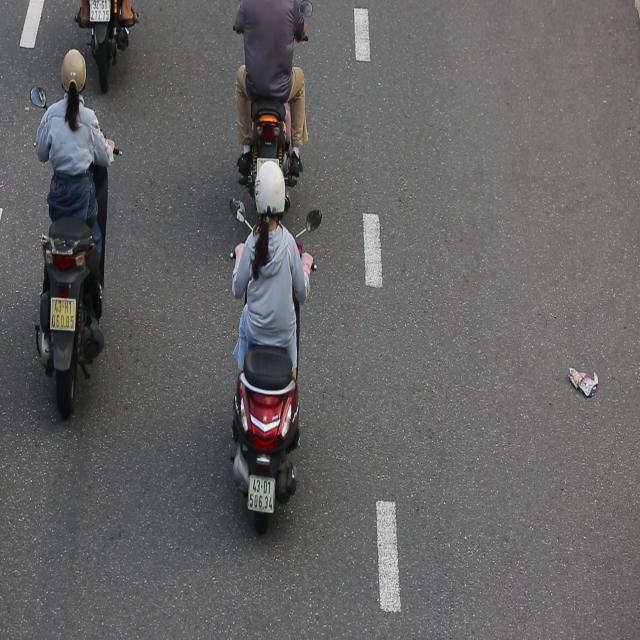motorbike: (18, 45, 120, 426), (225, 166, 323, 542)
